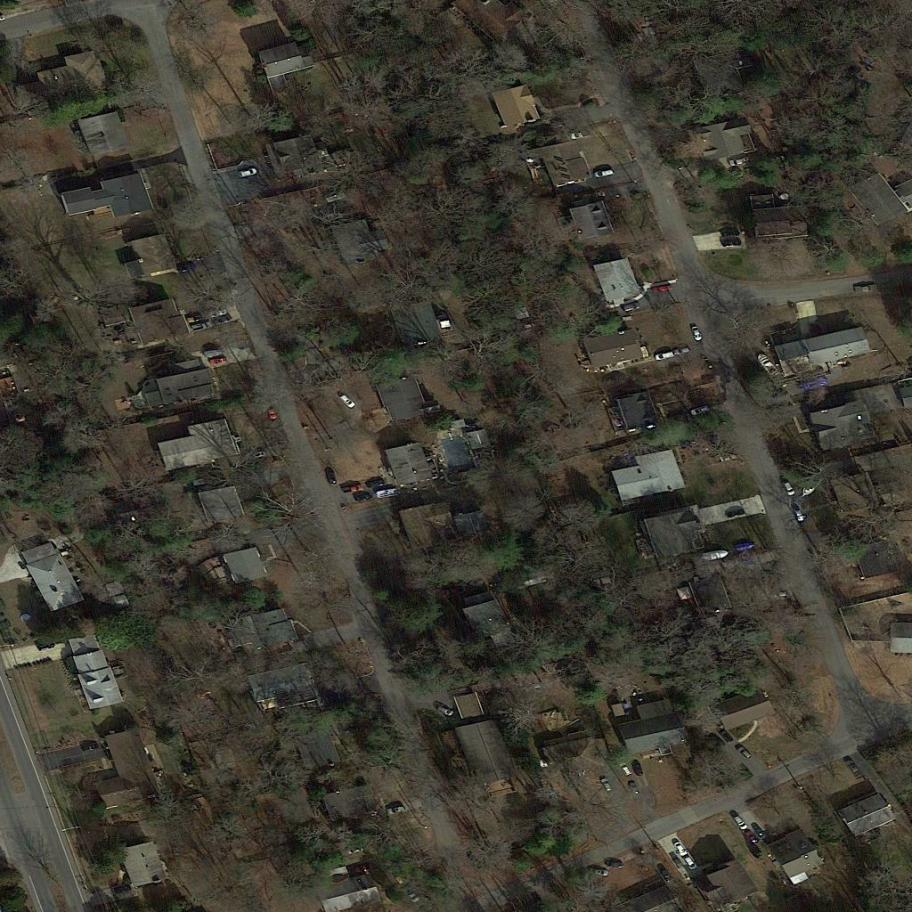large-vehicle: (340, 483, 363, 495)
ship: (796, 473, 823, 502), (755, 351, 781, 379), (698, 549, 729, 562), (733, 541, 756, 552)
small-vehicle: (843, 756, 864, 781), (715, 724, 735, 745), (658, 864, 675, 885), (672, 839, 689, 859), (781, 475, 796, 497), (732, 813, 749, 832), (689, 323, 704, 344), (203, 346, 224, 361), (854, 283, 879, 295), (689, 403, 710, 417), (191, 320, 212, 333), (386, 804, 407, 817), (339, 394, 356, 410), (743, 829, 759, 846), (736, 745, 753, 761), (683, 854, 698, 872), (436, 703, 455, 717), (654, 350, 675, 362), (617, 760, 631, 778), (325, 466, 338, 485), (208, 355, 227, 368), (208, 306, 228, 318), (751, 822, 765, 839), (570, 130, 591, 141), (594, 168, 615, 179), (354, 491, 373, 503), (176, 262, 195, 274), (601, 777, 614, 794), (650, 284, 672, 294), (726, 508, 746, 519), (81, 742, 101, 753), (214, 314, 232, 326), (793, 506, 805, 524), (721, 238, 742, 248), (186, 313, 205, 324), (604, 858, 623, 869), (238, 167, 257, 178), (622, 301, 639, 313), (721, 227, 739, 238), (727, 158, 749, 167), (628, 780, 639, 798), (632, 760, 643, 778), (588, 867, 609, 876), (267, 403, 278, 420), (367, 478, 385, 488), (673, 346, 690, 355), (772, 590, 787, 597)
